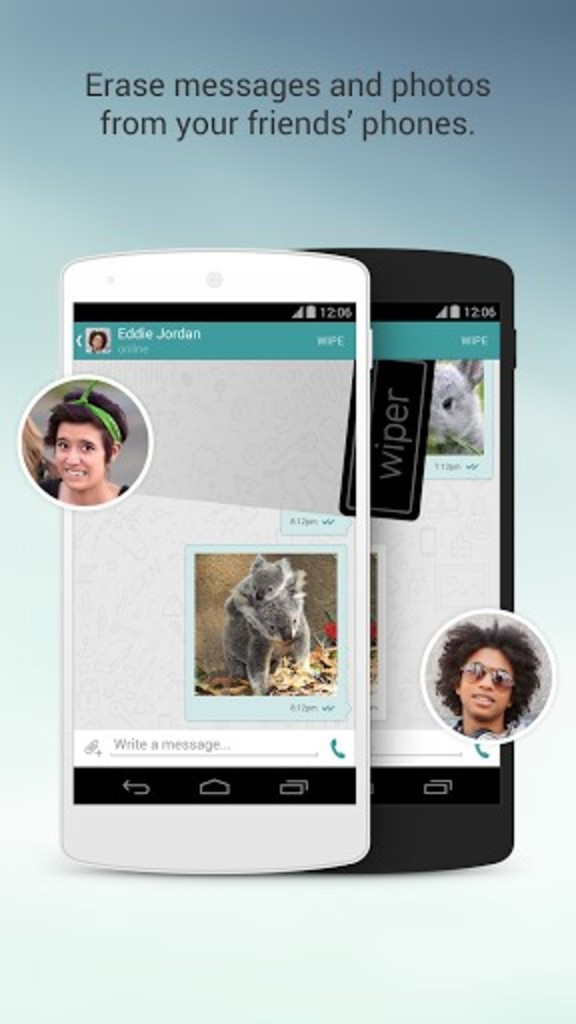mobile phone: (55, 243, 371, 874)
